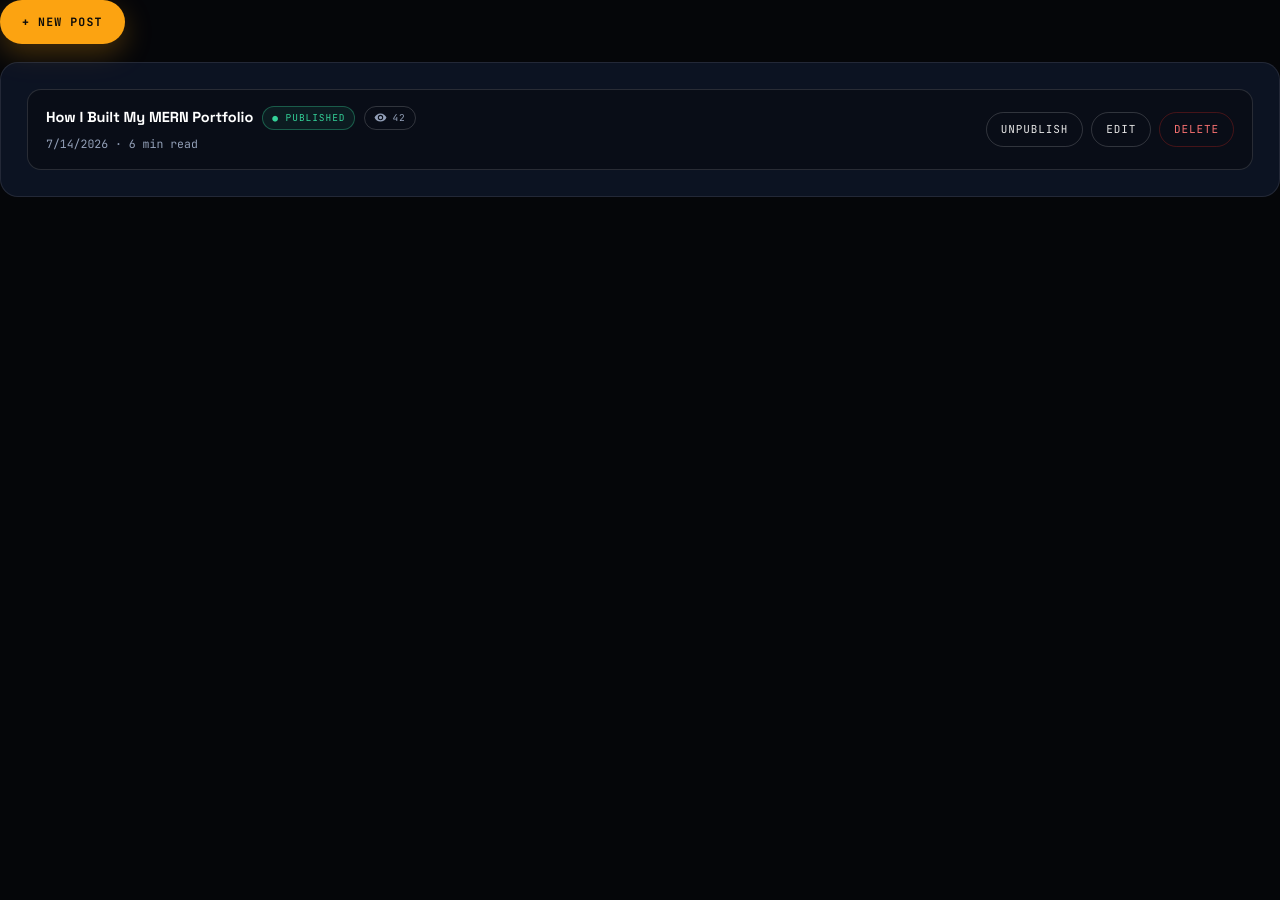
Test case: AdminBlogPanel — editing sections › adds a section
What coordinates should you click on to do the following:
click the button "EDIT"
I would click on:
 (1121, 130)
Its box is [1091,112,1151,148].
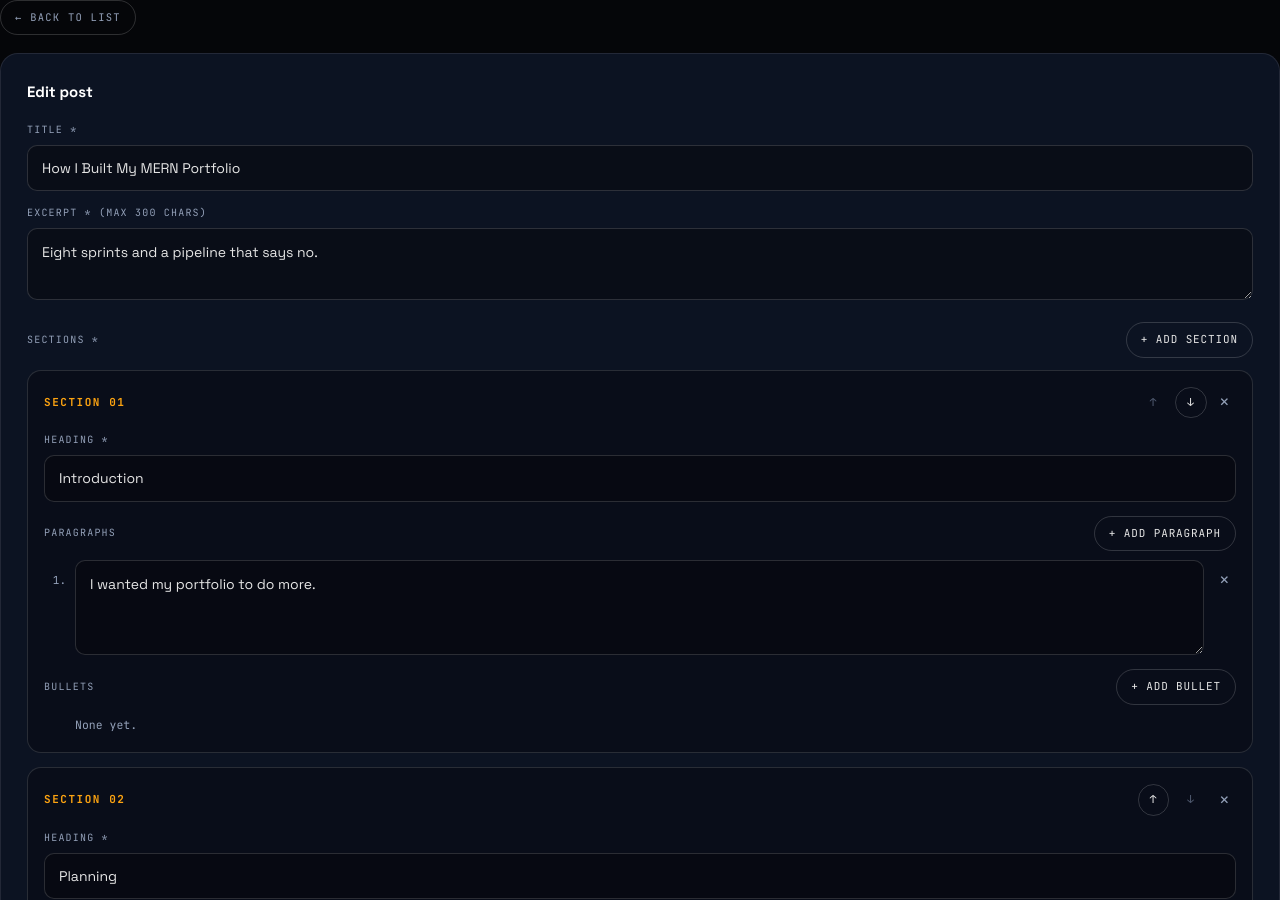
Now the number of fields labelled "Heading *" is 2, box [44,455,1236,502]; [44,853,1236,899]
What coordinates should you click on to do the following:
click the button "+ ADD SECTION"
I would click on:
 (1189, 340)
Its box is [1126,322,1253,358].
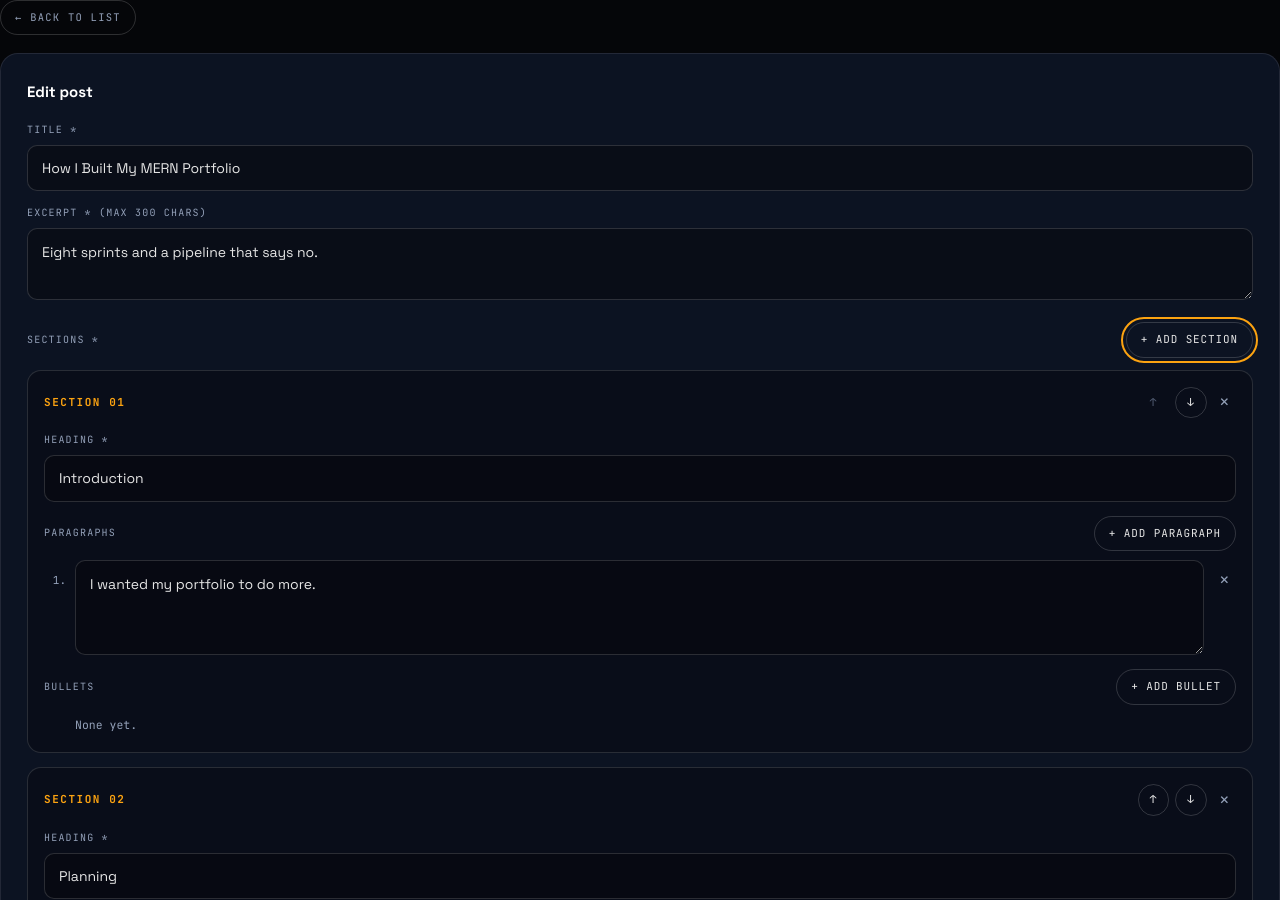
Now the number of fields labelled "Heading *" is 3
